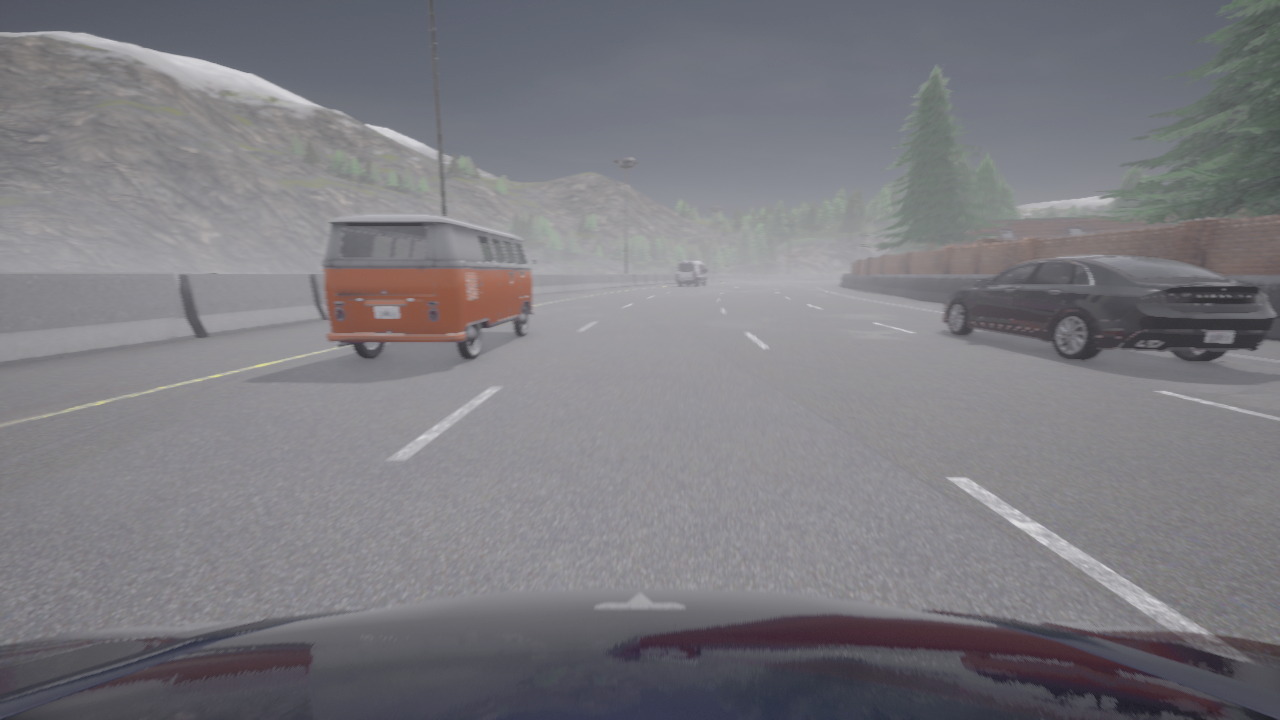cyclist: (0, 588, 1279, 719), (943, 255, 1275, 361), (322, 214, 536, 359), (677, 260, 706, 285)
